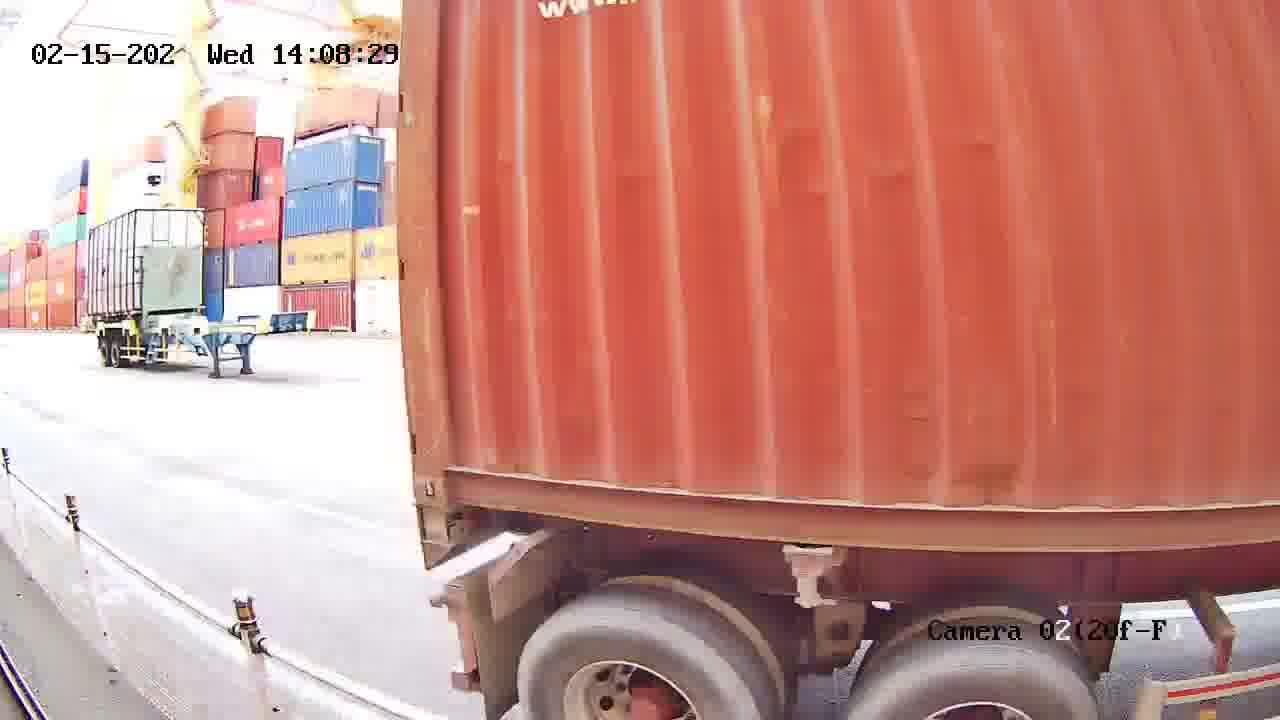Cone: (415, 507, 460, 545)
Hole_L: (414, 437, 510, 511)
Tire: (520, 614, 759, 715), (845, 637, 1101, 719)
